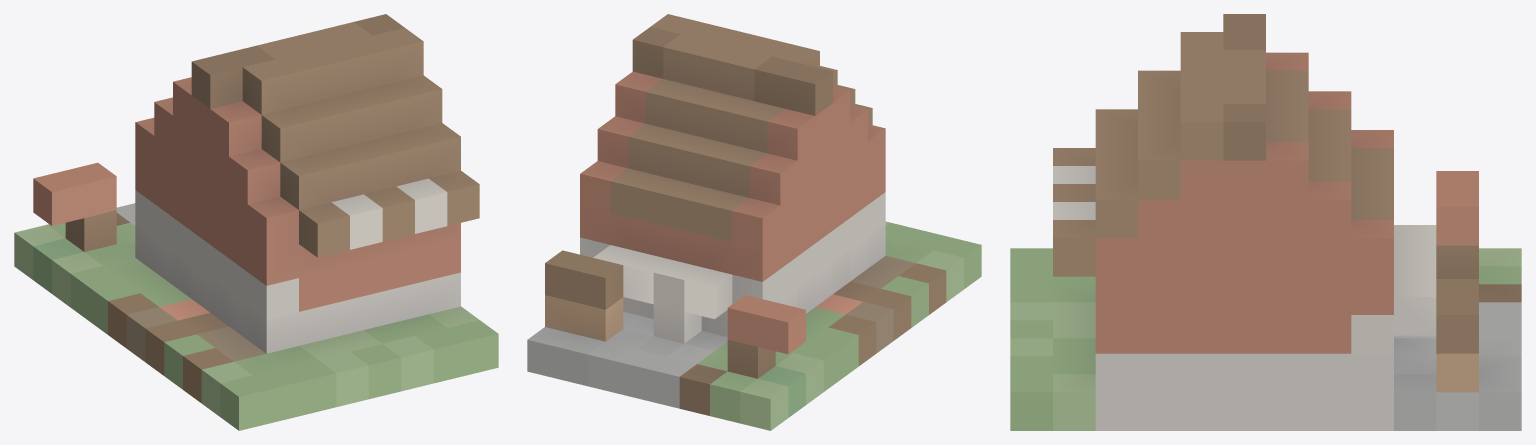
Rendered from surgery.lite.glb.
3 views of the same model, side by side, from view 1: azimuth 30°, elevation 25°; view 2: azimuth 150°, elevation 25°; view 3: azimuth 270°, elevation 25° (orthographic). The views are drawn at different scales.
Visible parts, largest first — view 1: surgery; view 2: surgery; view 3: surgery.
Boxes of the visible parts, x1,y1,x2,y2 form: surgery: [14, 14, 498, 430]; surgery: [527, 14, 981, 430]; surgery: [1010, 14, 1521, 430].
Size of the model in its own units: 4 by 4 by 6.
